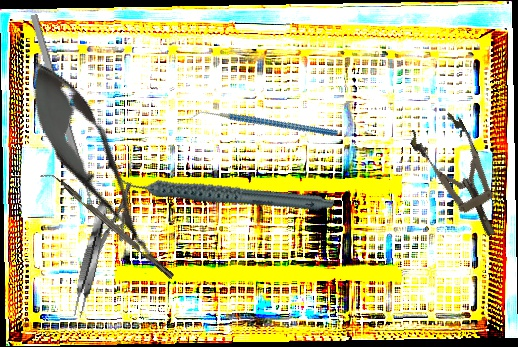Chopper: (188, 65, 339, 185), (39, 165, 175, 286)
Handpiece: (116, 130, 336, 252)
Micro Scissor: (7, 47, 179, 280)
Needle Holder: (46, 179, 162, 296)
Pusher: (29, 13, 103, 231)
Speculum: (405, 107, 516, 249)
Tissue Forceps: (69, 198, 113, 319)
